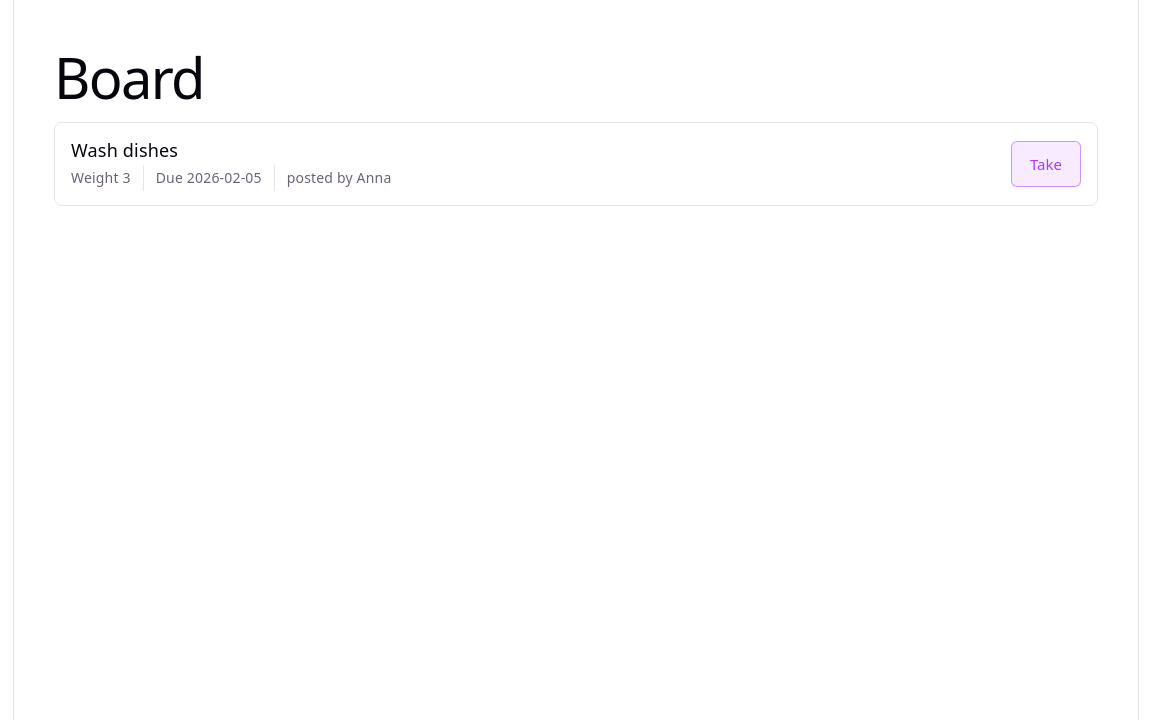
Scenario: BoardPage › shows an error and refetches when the item is already gone
The image size is (1152, 720).
Check: the text "Wash dishes" is shown, box [71,138,178,162]
Click the button "Take" at (1046, 164), box [1011,141,1081,187]
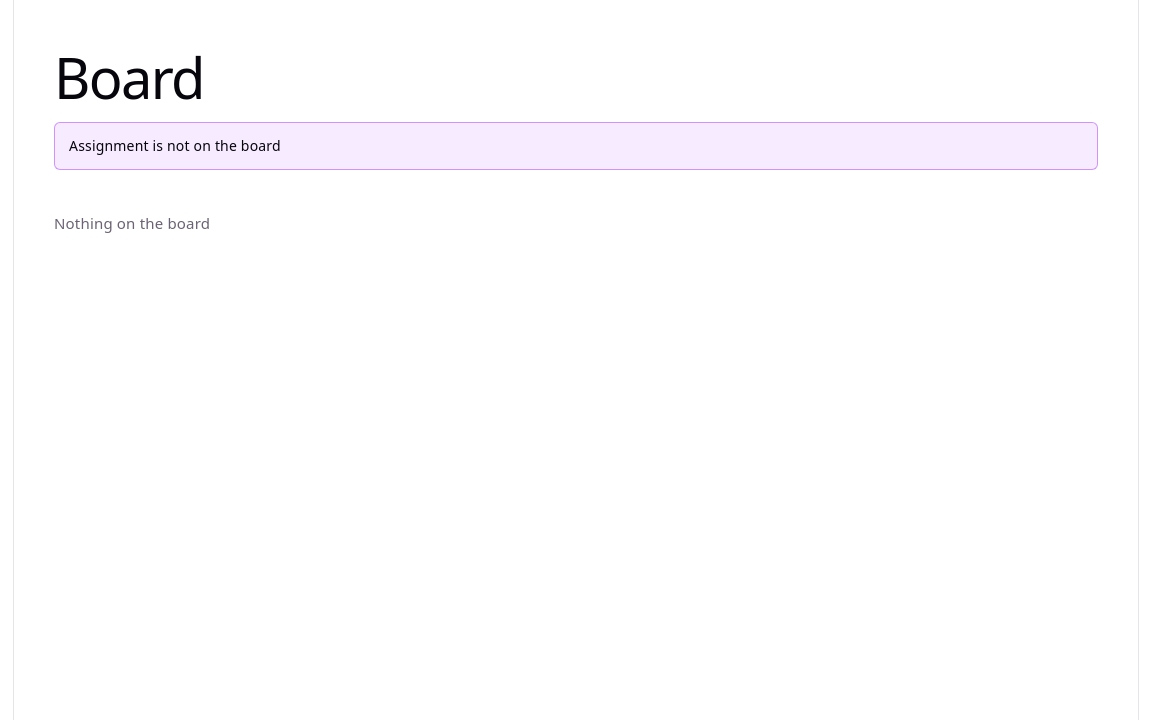
Check: the message reads "Assignment is not on the board", box [69,136,281,155]
